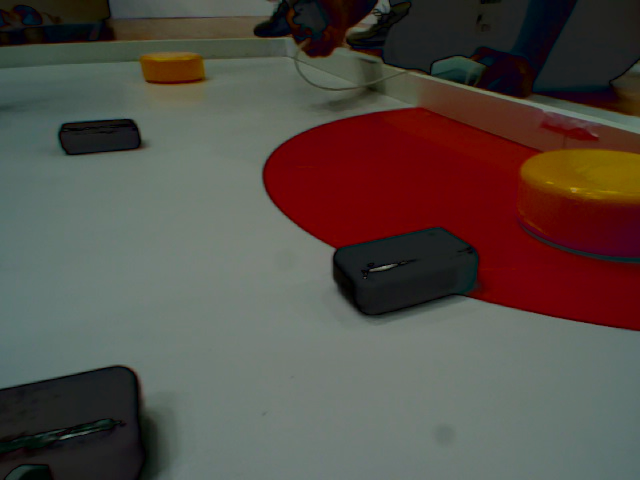black: (1, 359, 146, 480), (329, 228, 478, 318), (52, 117, 147, 156)
yellow: (513, 144, 640, 252), (137, 51, 205, 86)
